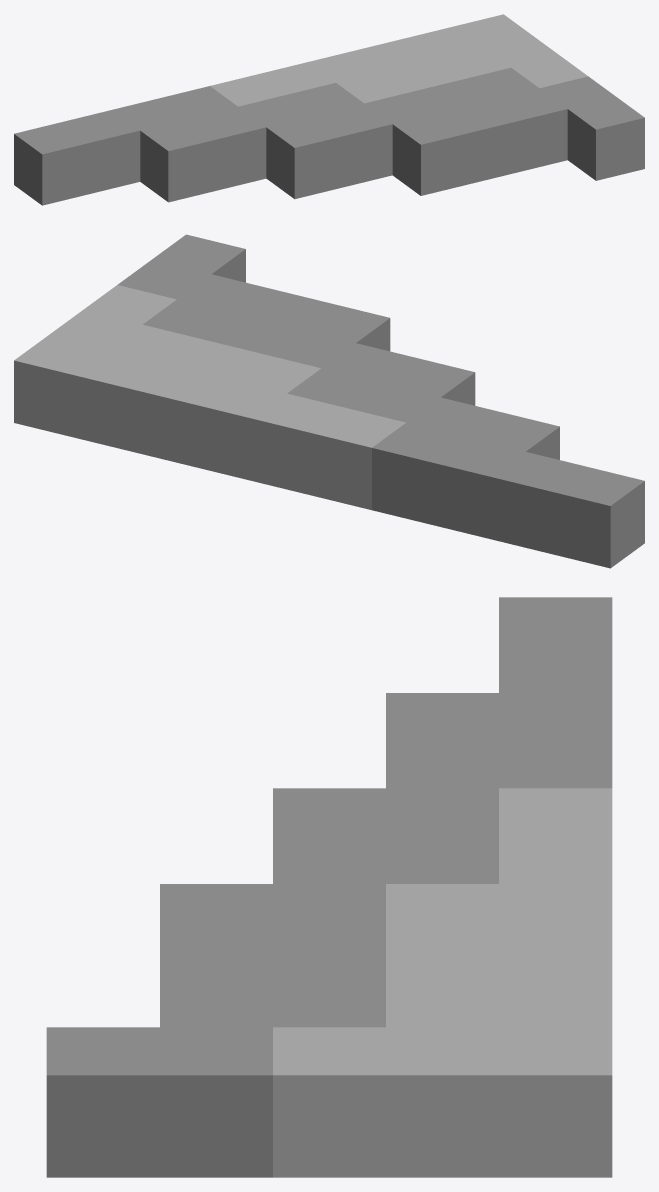
File: path_gray_diagonal_B_up.obj
The picture shows the model from 3 angles, top to bottom: view 1: azimuth 30°, elevation 25°; view 2: azimuth 150°, elevation 25°; view 3: azimuth 270°, elevation 25°; orthographic projection. The views are drawn at different scales.
Bounding box in the file's own units: 1 × 0.1 × 0.5.
1 material, 1 textured.
